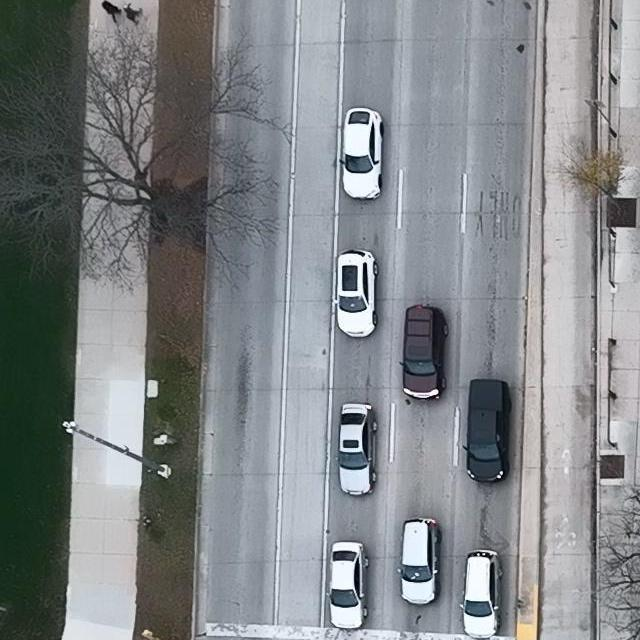car: (461, 378, 511, 484), (398, 304, 447, 402), (337, 108, 385, 200), (332, 249, 380, 338), (459, 549, 504, 640), (336, 401, 378, 498), (398, 516, 442, 606), (326, 540, 369, 629)
